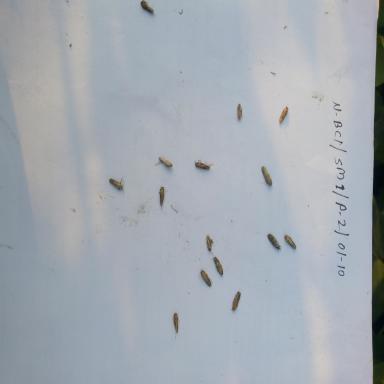pbw: (258, 164, 276, 190), (155, 152, 176, 172), (193, 154, 213, 175), (156, 185, 170, 210), (266, 231, 281, 254), (197, 268, 214, 288), (230, 289, 243, 315), (210, 254, 224, 278), (138, 0, 158, 16), (108, 176, 127, 192), (283, 233, 298, 252), (171, 311, 181, 337), (277, 106, 291, 124), (204, 234, 214, 255), (237, 101, 243, 122)
